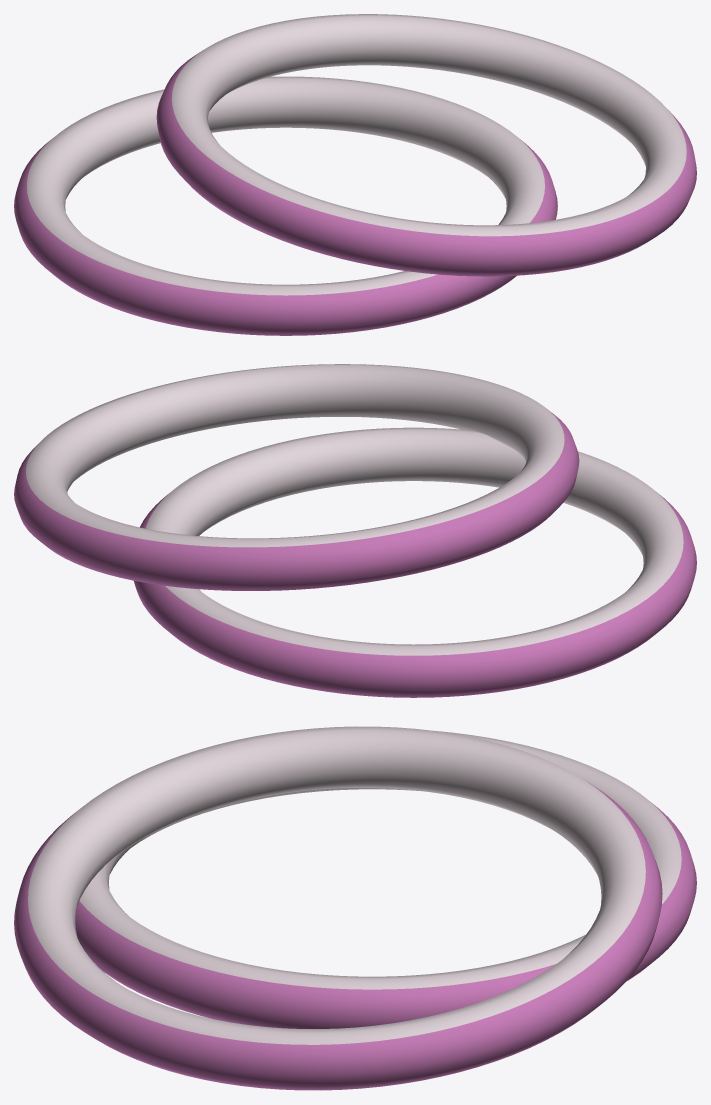
Rendered from onion(plural).fbx.
The picture shows the model from 3 angles, top to bottom: view 1: azimuth 30°, elevation 25°; view 2: azimuth 150°, elevation 25°; view 3: azimuth 270°, elevation 25°; orthographic projection. The views are drawn at different scales.
Visible parts, largest first — view 1: Torus.001, Torus; view 2: Torus.001, Torus; view 3: Torus.001, Torus.
Boxes of the visible parts, x1=… form: Torus.001: x1=156, y1=14, x2=696, y2=276; Torus: x1=14, y1=76, x2=557, y2=335; Torus.001: x1=14, y1=364, x2=579, y2=590; Torus: x1=134, y1=427, x2=696, y2=697; Torus.001: x1=14, y1=726, x2=662, y2=1090; Torus: x1=75, y1=731, x2=696, y2=1028.
Bounding box in the file's own units: 264 × 47.47 × 219.
